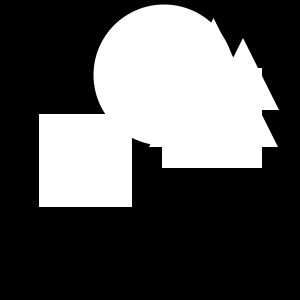circle: (162, 68, 262, 168), (39, 114, 132, 207)
rectangle: (94, 5, 234, 146)
triangle: (149, 18, 278, 147), (207, 38, 279, 110)
